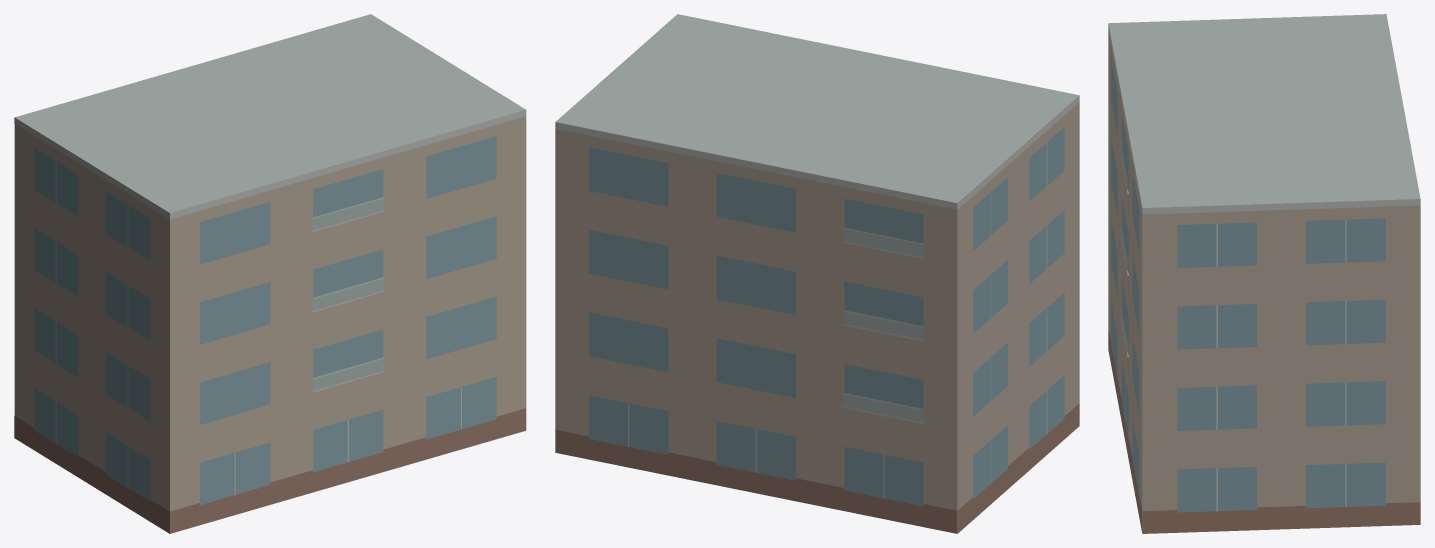
Rendered from residential-7c8746ee-b651-4bb3-8fa7-db0c69b276e1.glb.
The picture shows the model from 3 angles, left to right: view 1: azimuth 30°, elevation 25°; view 2: azimuth 150°, elevation 25°; view 3: azimuth 270°, elevation 25°; orthographic projection. The views are drawn at different scales.
Parts seen in each view (by area): view 1: residential-7c8746ee-b651-4bb3-8fa7-db0c69b276e1.tmp; view 2: residential-7c8746ee-b651-4bb3-8fa7-db0c69b276e1.tmp; view 3: residential-7c8746ee-b651-4bb3-8fa7-db0c69b276e1.tmp.
Part boxes in pixels (box(x1,y1,x2,y2)): residential-7c8746ee-b651-4bb3-8fa7-db0c69b276e1.tmp: box(14, 14, 526, 533); residential-7c8746ee-b651-4bb3-8fa7-db0c69b276e1.tmp: box(555, 14, 1079, 533); residential-7c8746ee-b651-4bb3-8fa7-db0c69b276e1.tmp: box(1108, 14, 1420, 533).
Size of the model in its own units: 15.6 by 12.2 by 10.61.
